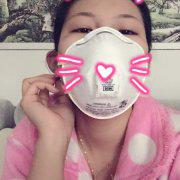OK: (57, 15, 154, 112)
